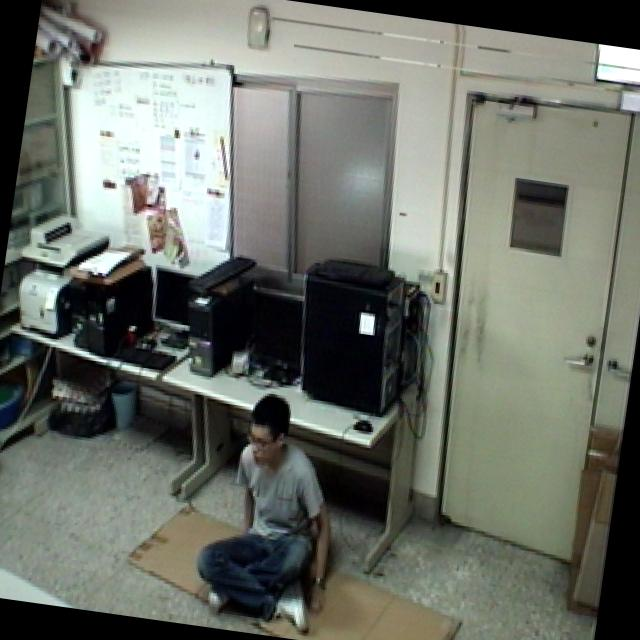sit: (187, 382, 358, 635)
